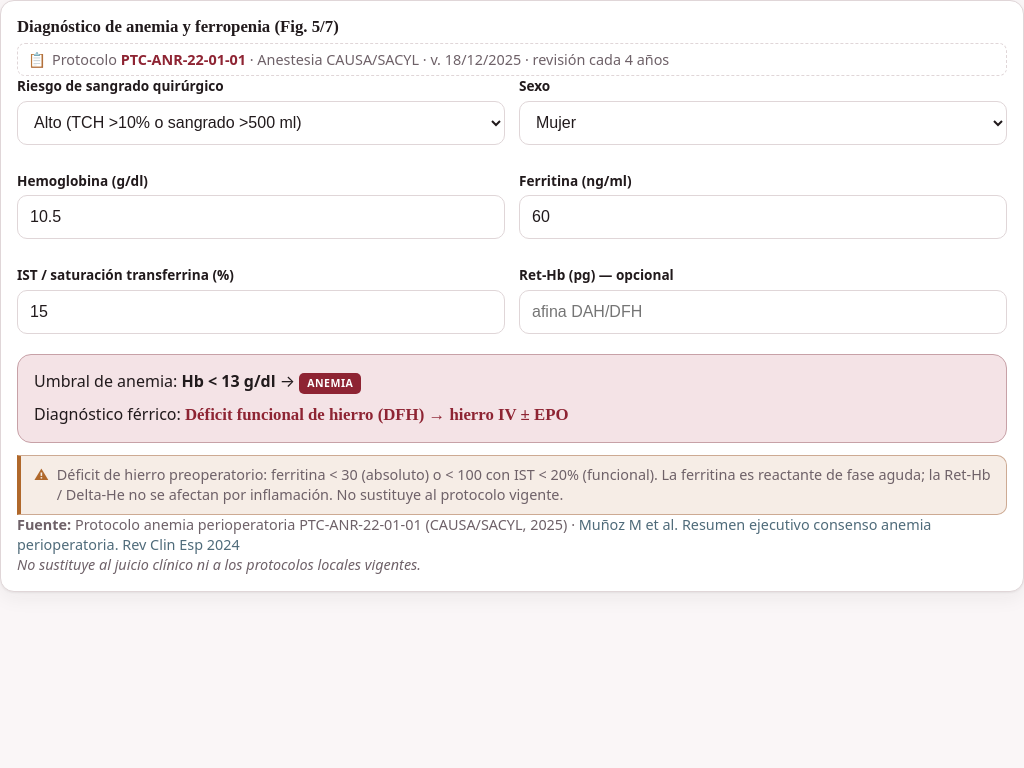
Test case: Pantallas de ferropenia — regresión Fase 2a › AnemiaDx: ferritina negativa bloquea el resultado
The width and height of the screenshot is (1024, 768).
Replace the text in the field labelled "Ferritina (ng/ml)" with "-5" at (763, 217), box left=519, top=195, right=1007, bottom=239
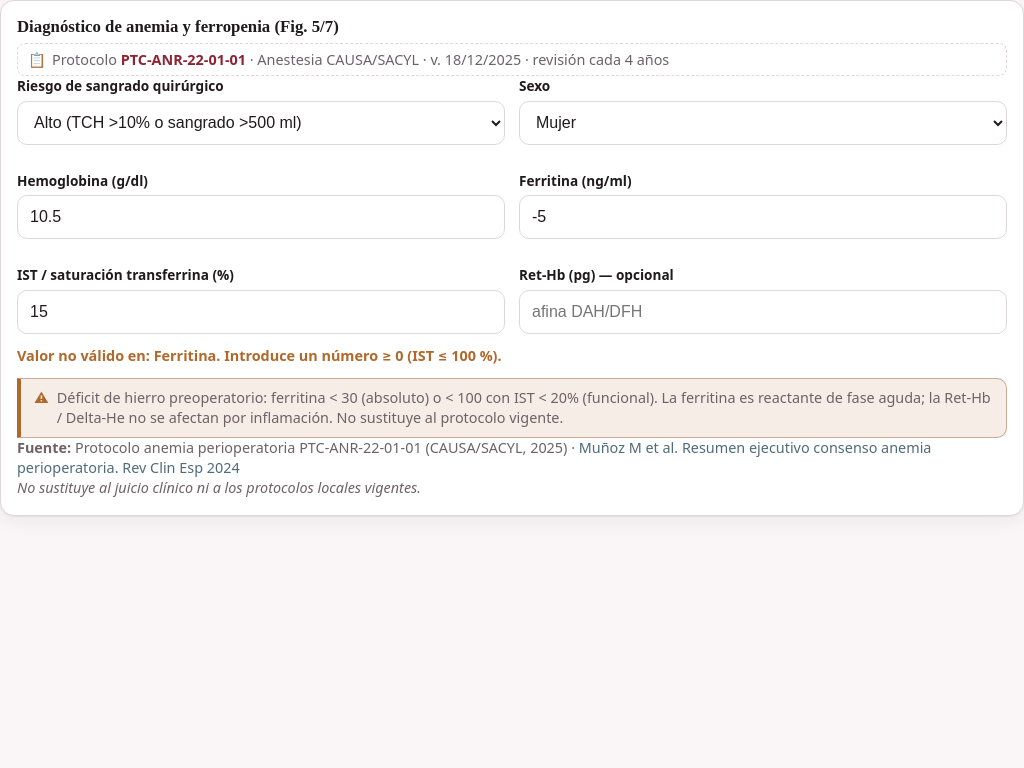
Result: the message shows "Ferritina" at left=154, top=346, right=216, bottom=365
Result: the text "Diagnóstico férrico" is gone
